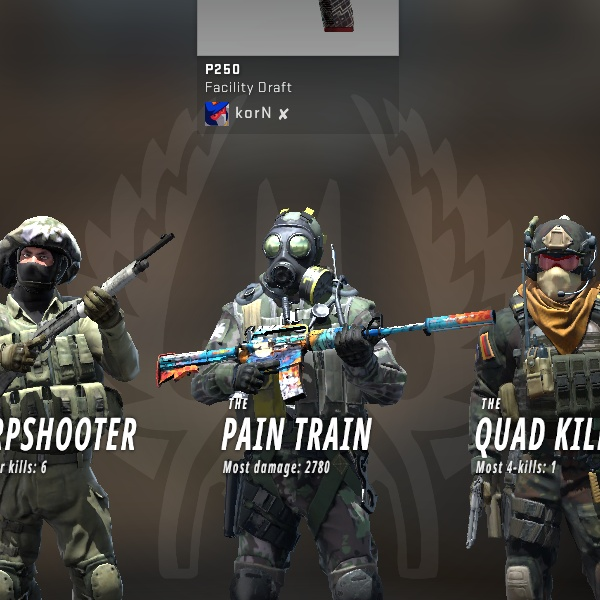ct_body: (175, 211, 387, 590), (426, 180, 587, 600), (5, 198, 155, 600)
ct_head: (510, 201, 597, 313), (0, 206, 95, 308)
